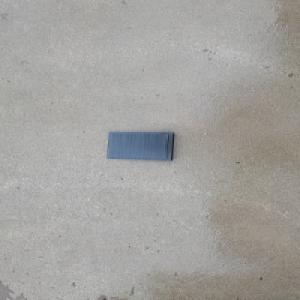PlasticPart: (106, 130, 176, 161)
